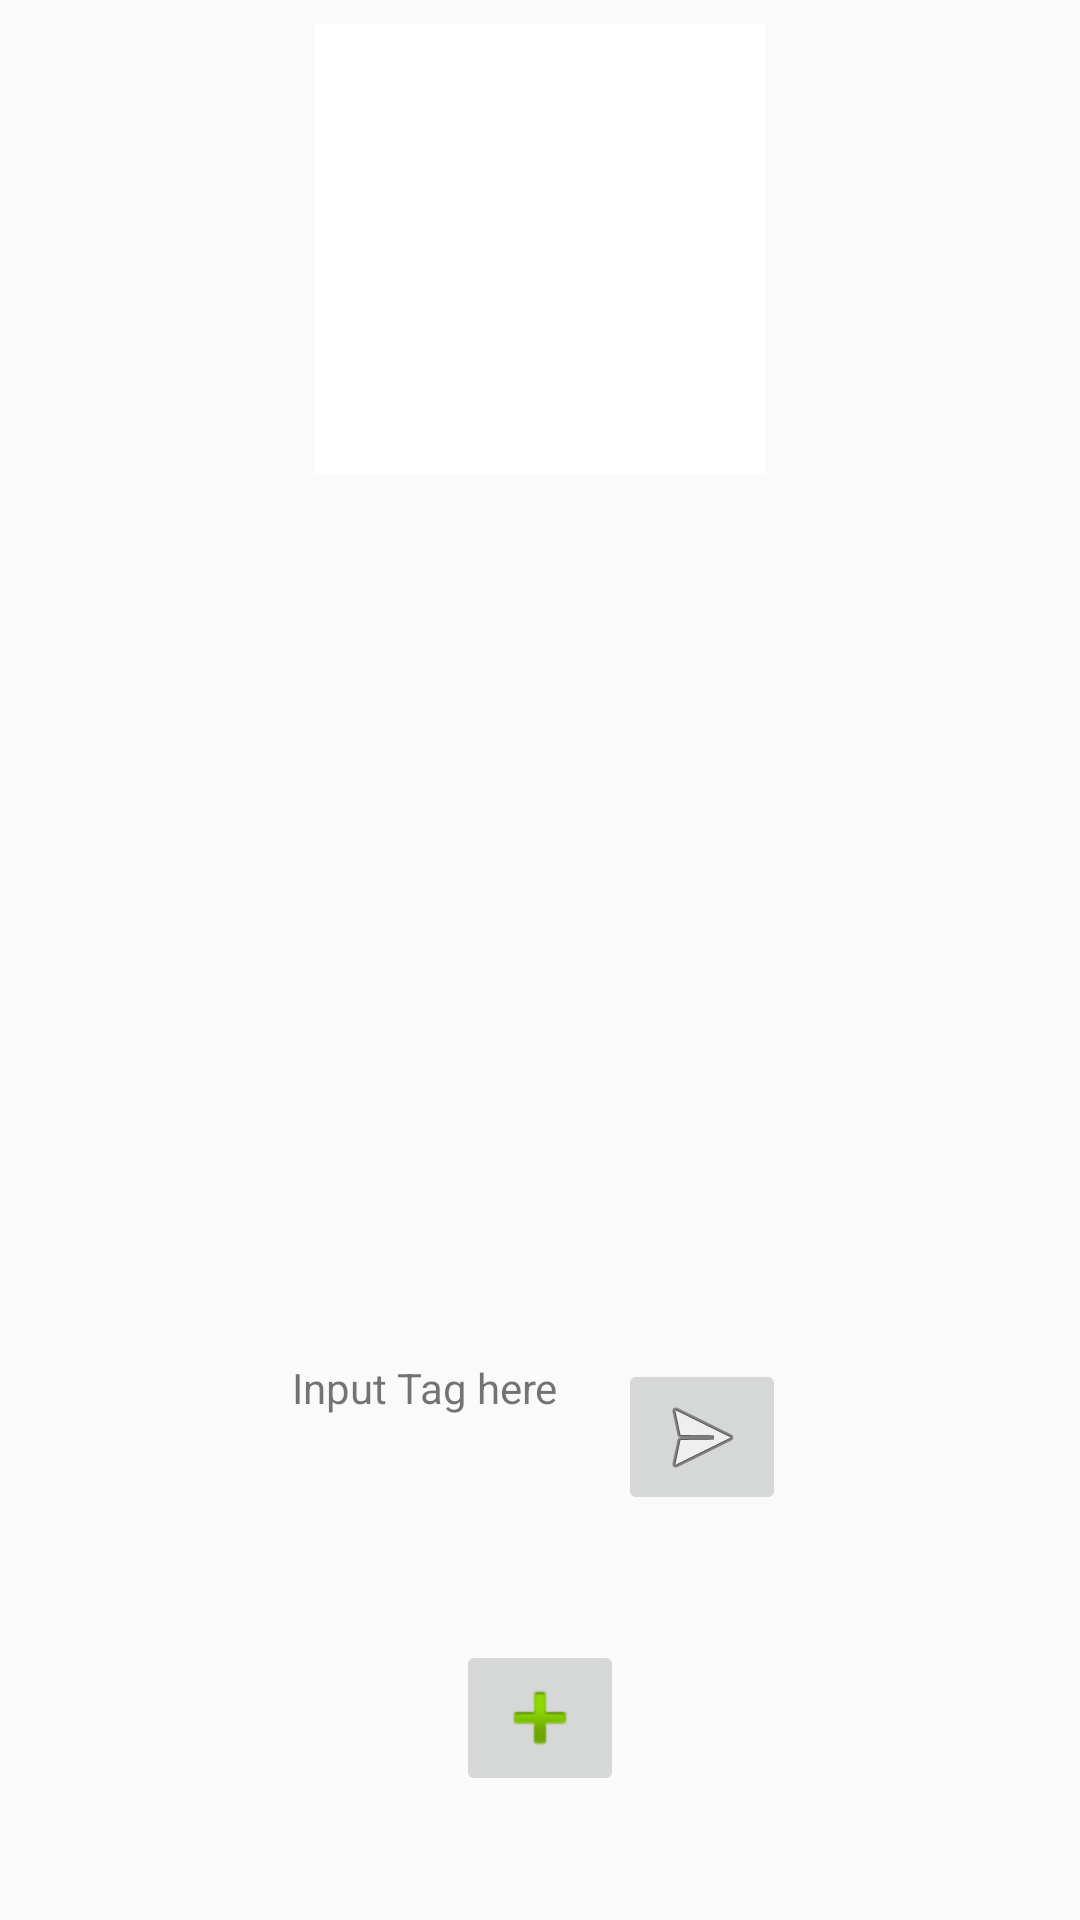

Point at icon controls on the screen. Image size 1080w x 1920h, points as (x=x, y=y).
add: (x=540, y=1718)
Submit Tag: (x=702, y=1437)
